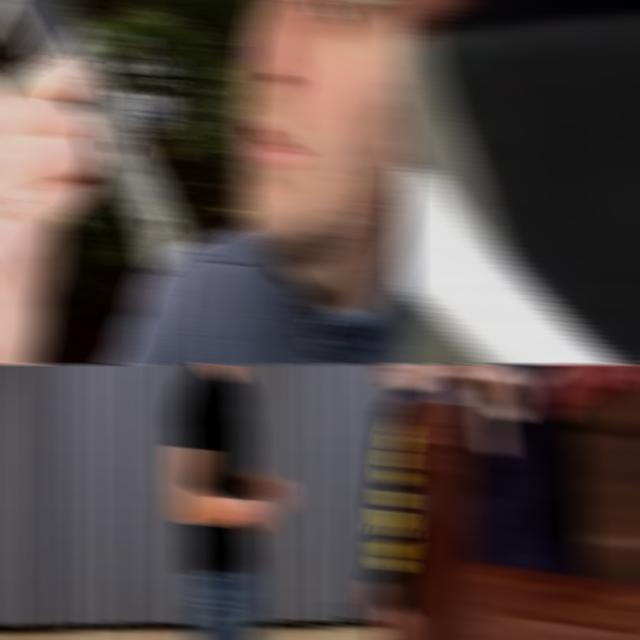Knife: (396, 119, 640, 364), (0, 0, 186, 272)
Knife_Handle: (396, 28, 640, 364), (0, 0, 199, 307), (236, 495, 279, 536), (256, 476, 288, 514)
